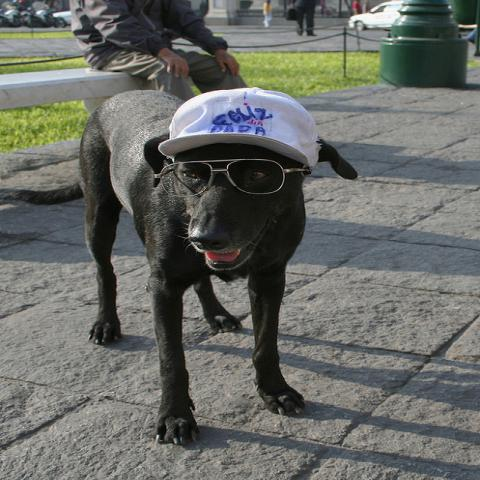car: (347, 1, 403, 33), (52, 10, 70, 28)
motorcycle: (20, 9, 67, 28), (4, 11, 19, 27)
